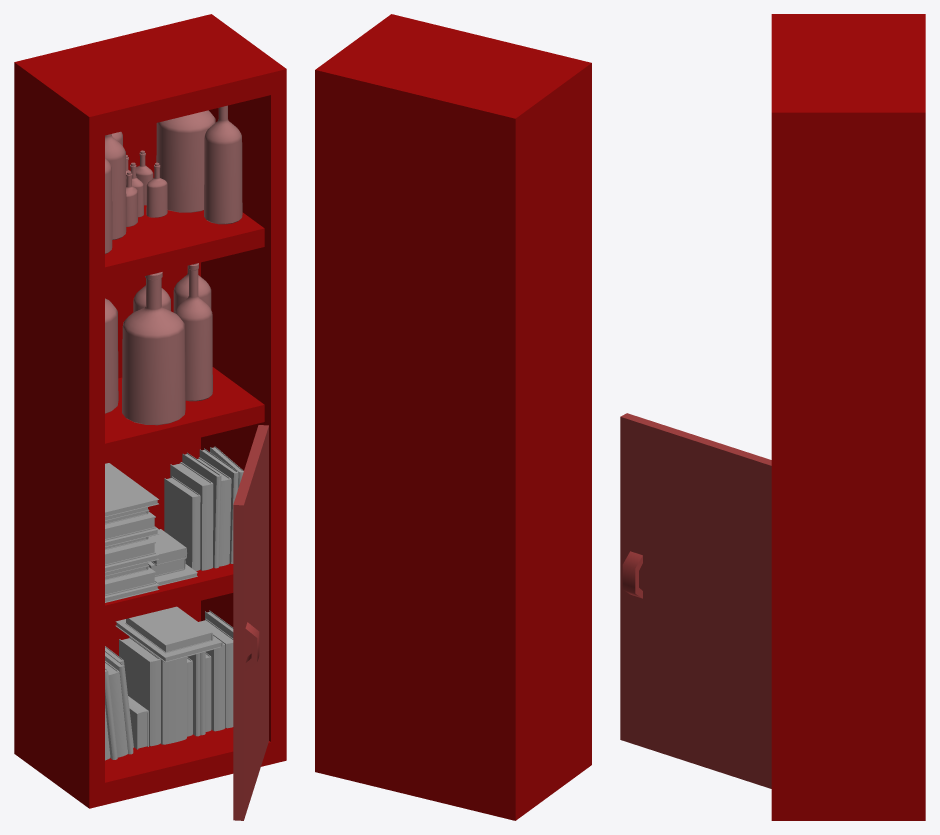
File: INTE_Prateleira Direita.fbx
3 renders of one model, left to right at view 1: azimuth 30°, elevation 25°; view 2: azimuth 150°, elevation 25°; view 3: azimuth 270°, elevation 25°, orthographic. The views are drawn at different scales.
Visible parts, largest first — view 1: Estrutura, Portinha, garrafa3, pCylinder10, pCylinder16, garrafa1, pCube39, pCube27, pCube48, pCube40, pCube28, pCube20 (+22 smaller); view 2: Estrutura; view 3: Estrutura, Portinha.
Boxes of the visible parts, left/top/right/bottom form: Estrutura: left=14, top=14, right=286, bottom=808; Portinha: left=233, top=425, right=268, bottom=820; garrafa3: left=122, top=272, right=185, bottom=425; pCylinder10: left=156, top=110, right=215, bottom=212; pCylinder16: left=204, top=105, right=242, bottom=224; garrafa1: left=175, top=263, right=212, bottom=401; pCube39: left=119, top=636, right=160, bottom=746; pCube27: left=164, top=476, right=200, bottom=571; pCube48: left=125, top=606, right=213, bottom=652; pCube40: left=161, top=657, right=186, bottom=744; pCube28: left=170, top=462, right=213, bottom=570; pCube20: left=105, top=463, right=158, bottom=517; Estrutura: left=315, top=14, right=591, bottom=820; Estrutura: left=771, top=14, right=925, bottom=820; Portinha: left=620, top=413, right=771, bottom=788.
Size of the model in its own units: 6.44 by 21.56 by 8.42.
